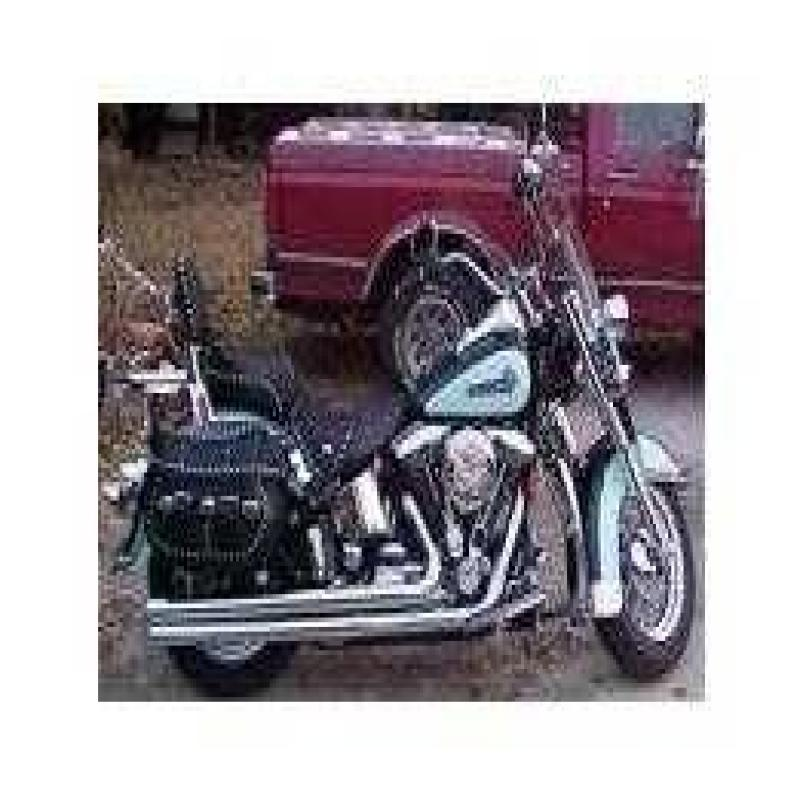bike: (135, 116, 682, 678)
